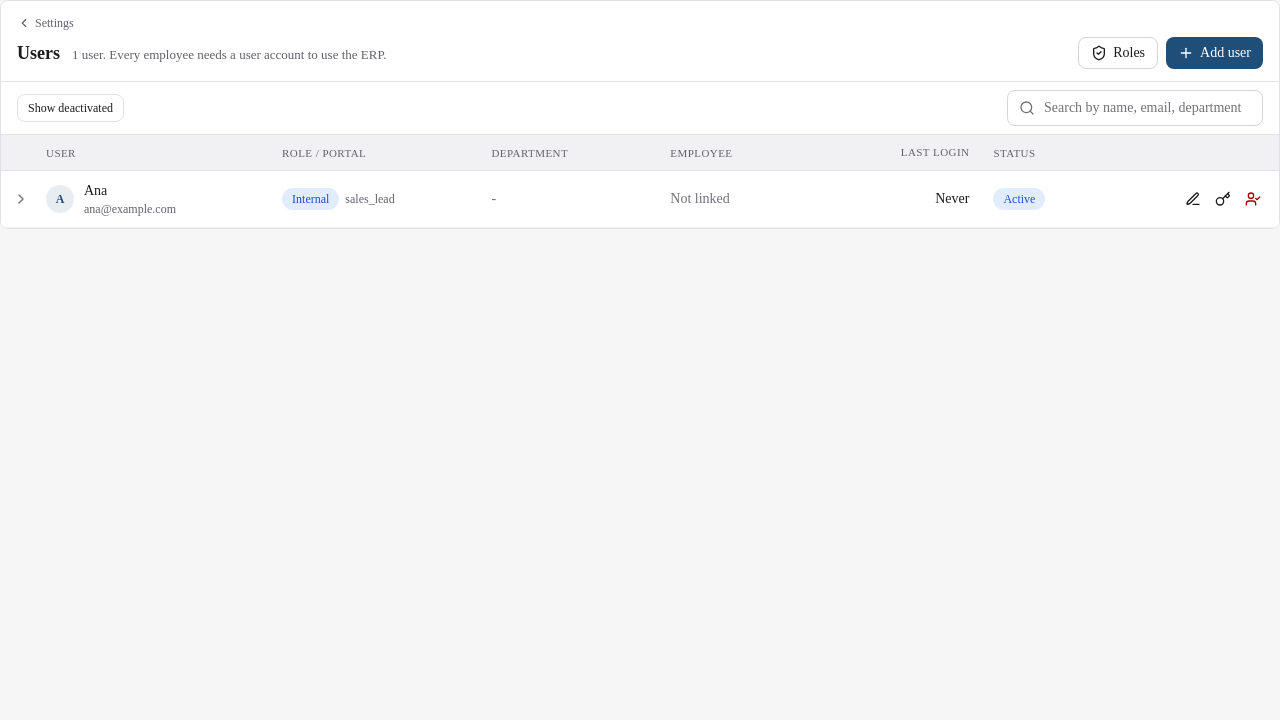
Scenario: Settings > Users: roles › creates a user with the chosen roles, listing only roles the admin may grant
Later steps or results of the test are not shown.
Click the button "Add user" at (1215,53), box [1166,37,1263,69]
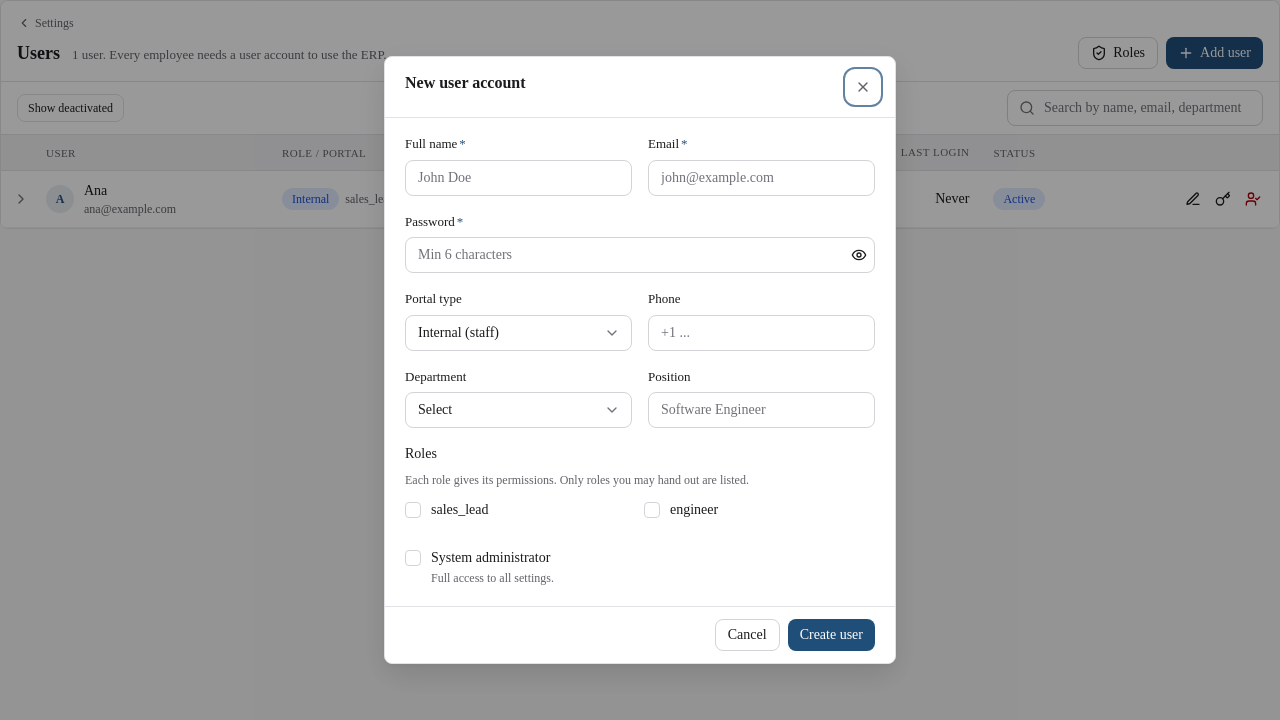
Result: the checkbox labelled "engineer" is shown at [644,502,660,518]
